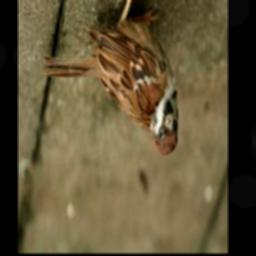Sparrow: (44, 0, 181, 159)
